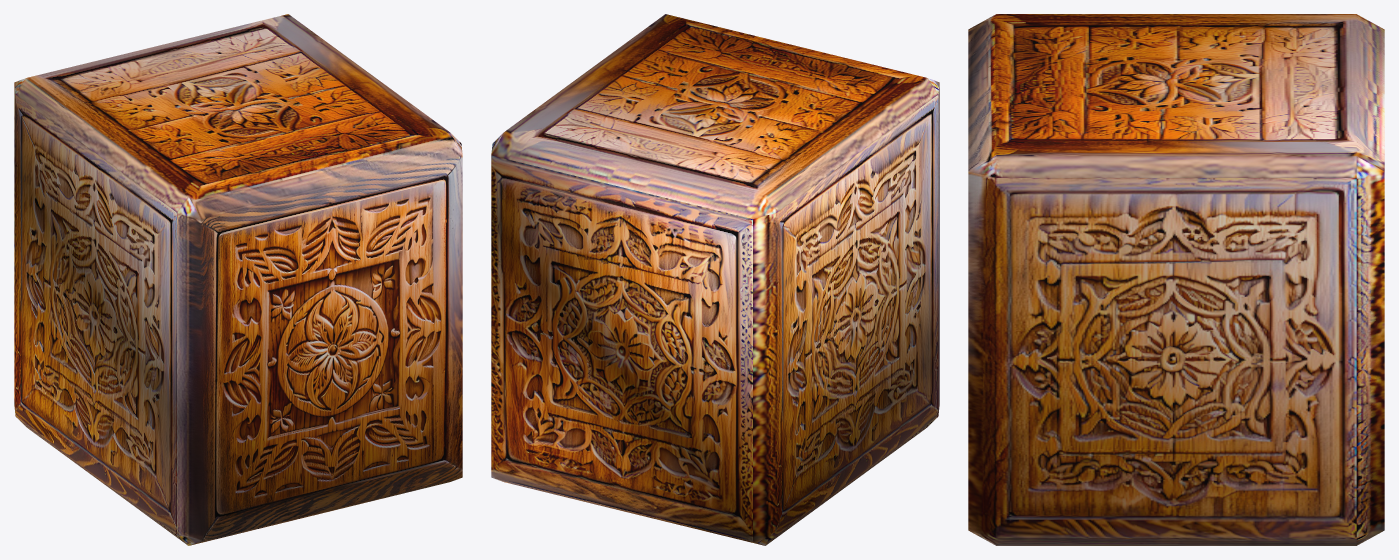
Rendered from teaBox.glb.
3 renders of one model, left to right at view 1: azimuth 30°, elevation 25°; view 2: azimuth 150°, elevation 25°; view 3: azimuth 270°, elevation 25°, orthographic. The views are drawn at different scales.
Size of the model in its own units: 1.56 by 1.84 by 1.78.
1 material, 1 textured.
